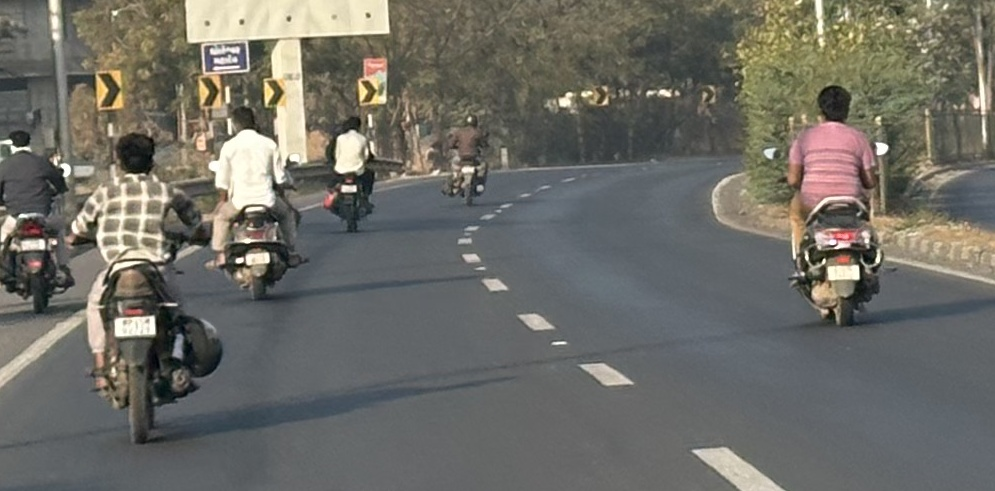BikeWithRider: (71, 133, 225, 432), (764, 53, 901, 333), (205, 108, 311, 303), (2, 116, 69, 342), (319, 110, 391, 235), (444, 106, 489, 200)
Helmet: (465, 111, 478, 127)
NoHelmet: (114, 132, 156, 178), (817, 83, 852, 123), (228, 108, 261, 133), (8, 129, 29, 155), (348, 116, 363, 132), (342, 117, 356, 134)
